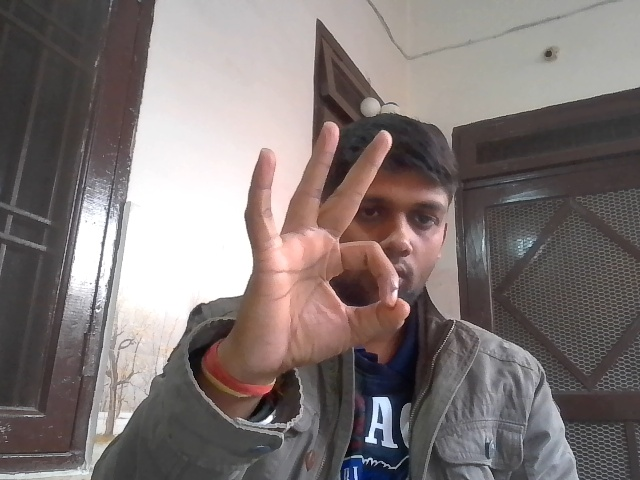Good: (227, 118, 423, 372)
